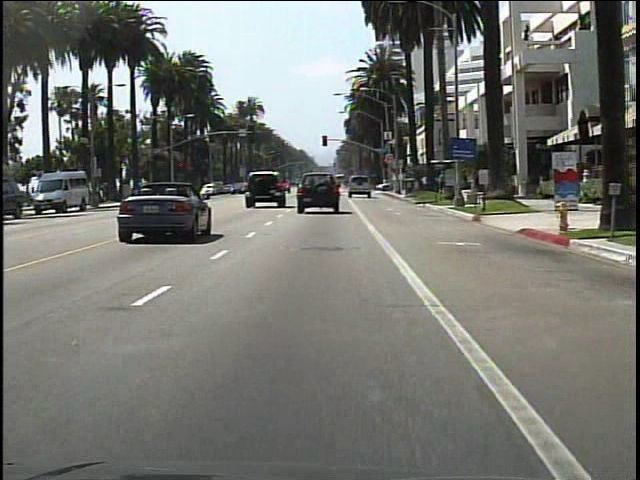person: (555, 170, 572, 210)
